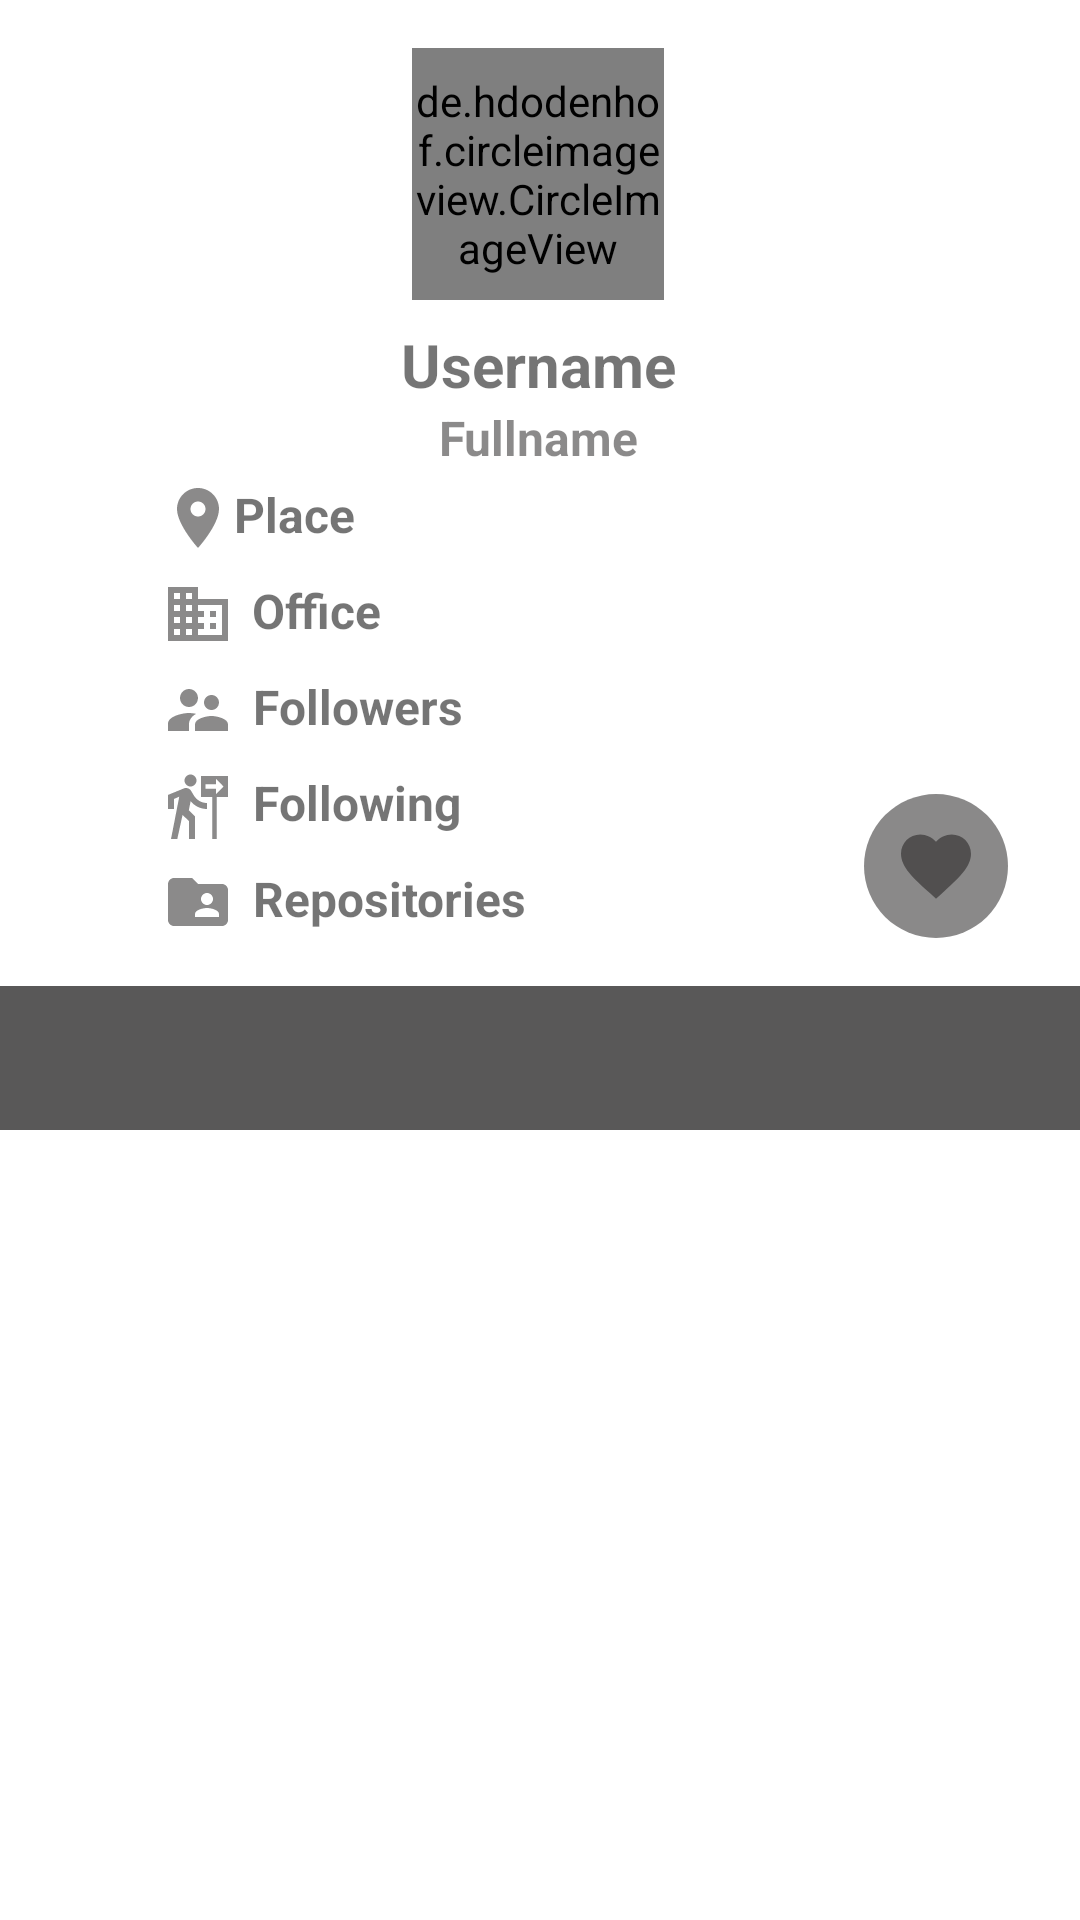

Named icons in this screenshot (1080px x 1920px) and their centers, (x,y):
favorite: (936,866)
